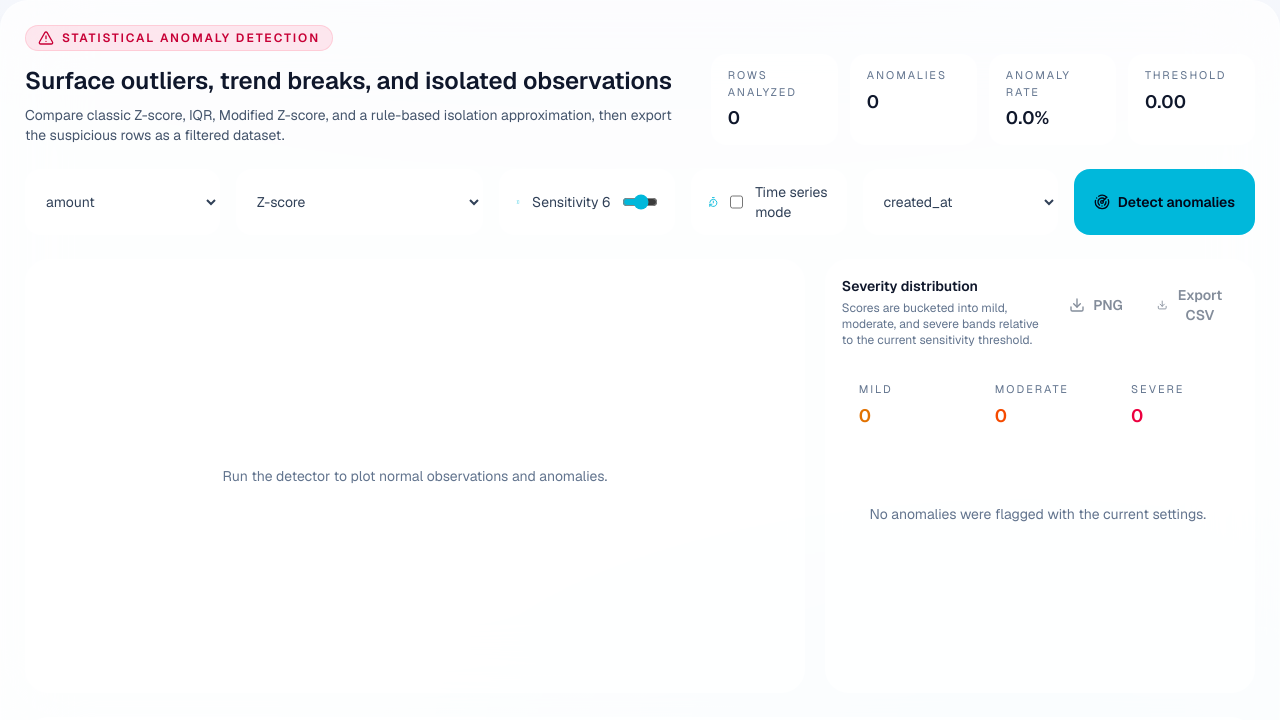
Scenario: AnomalyDetector › shows analysis errors from DuckDB
Click the button "Detect anomalies" at (1164, 202), box [1074,169,1255,235]
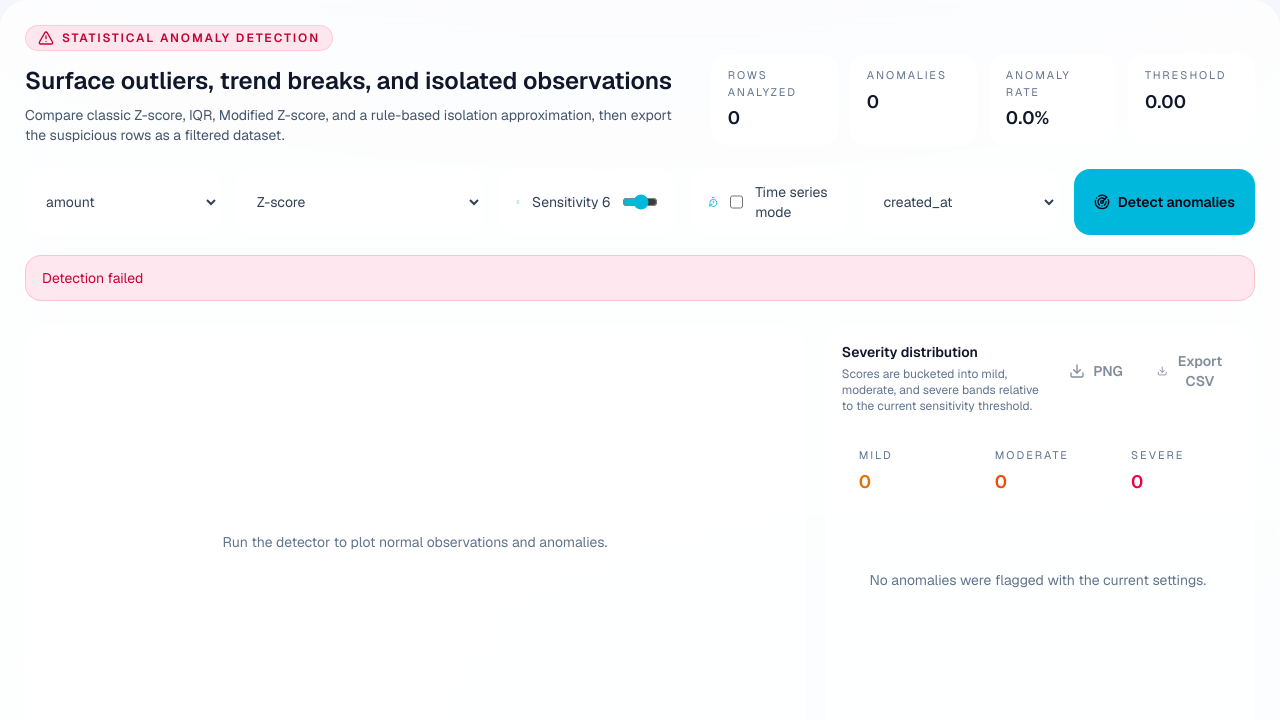
Check: the text "Detection failed" is shown, box [25,255,1255,301]
